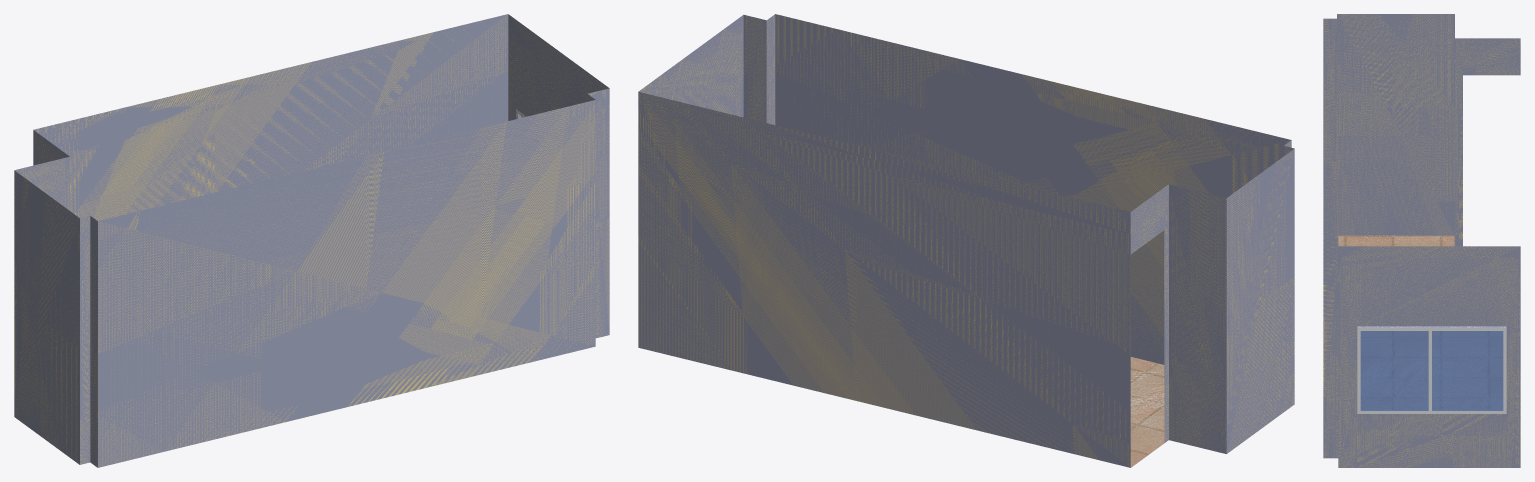
Rendered from DES004.obj.
3 views of the same model, side by side, from view 1: azimuth 30°, elevation 25°; view 2: azimuth 150°, elevation 25°; view 3: azimuth 270°, elevation 25° (orthographic). The views are drawn at different scales.
Parts seen in each view (by area): view 1: Mesh6 DES004 Model; view 2: Mesh6 DES004 Model; view 3: Mesh6 DES004 Model, Mesh1 ventana2_1 DES004 Model.
Part boxes in pixels (bbox=[...]): Mesh6 DES004 Model: bbox=[14, 14, 609, 467]; Mesh6 DES004 Model: bbox=[638, 14, 1294, 467]; Mesh6 DES004 Model: bbox=[1323, 14, 1520, 467]; Mesh1 ventana2_1 DES004 Model: bbox=[1357, 326, 1506, 413].
Size of the model in its own units: 8.15 by 3.6 by 2.91.
